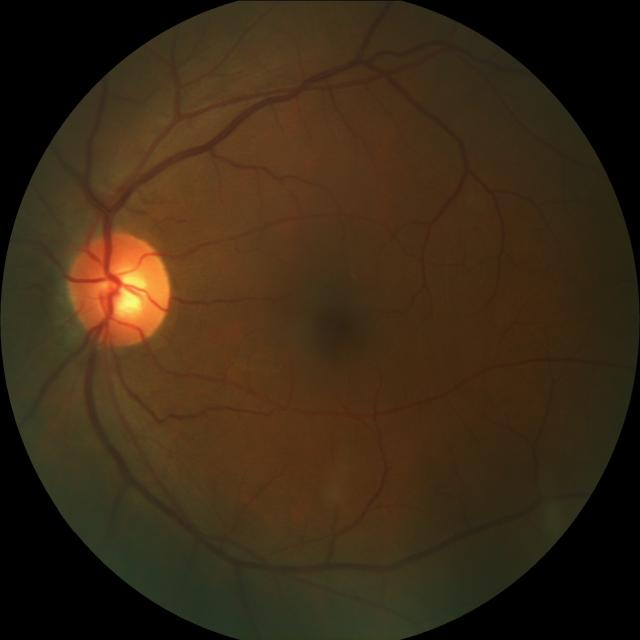OC: (98, 266, 150, 318)
OD: (69, 228, 172, 346)
